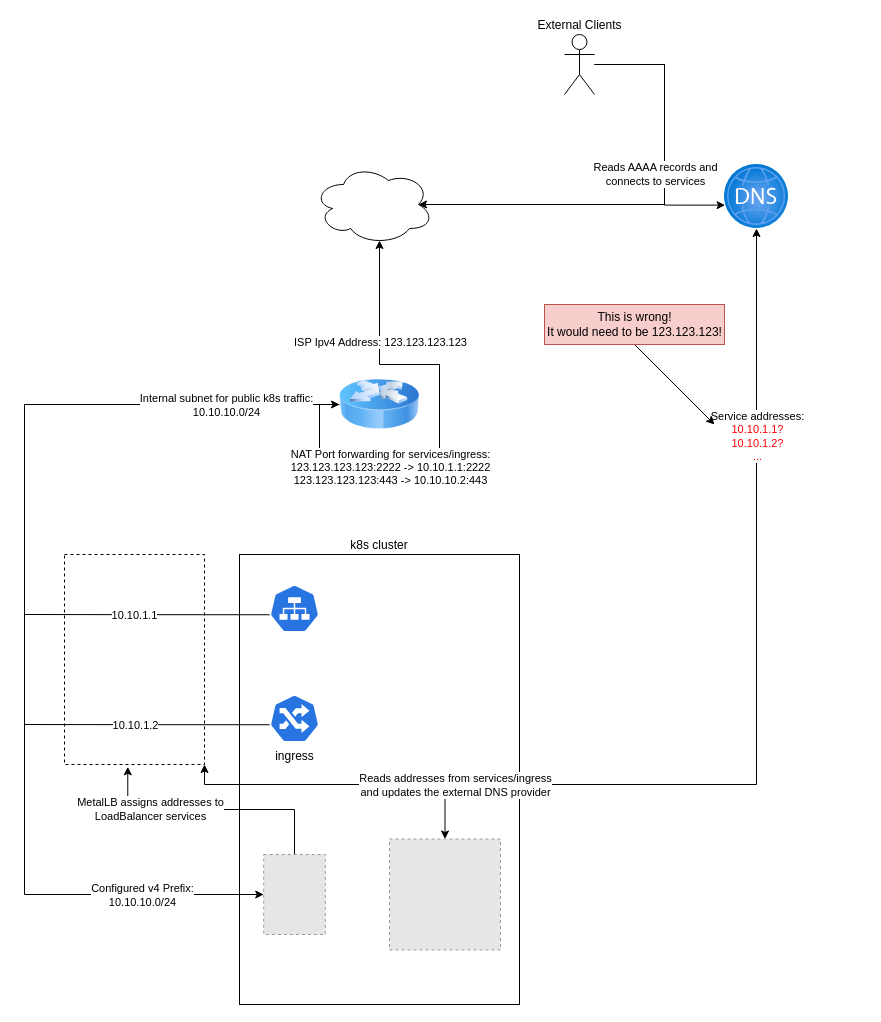
This 881x1022 diagram has some shape labels left out. Grey dashed boxes stand in for pictures. The centre of each missing label's shape, as x and y in pixels:
app-1: (294,608)
DNS Provider: (756,196)
ISP: (373,204)
